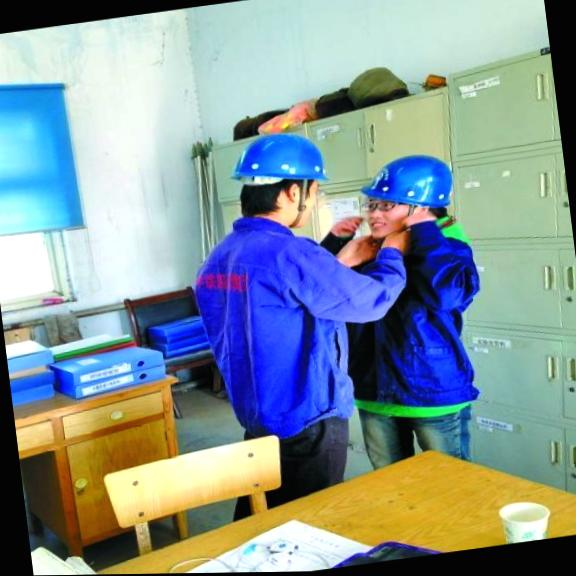no_safety_vest: (192, 194, 382, 442)
